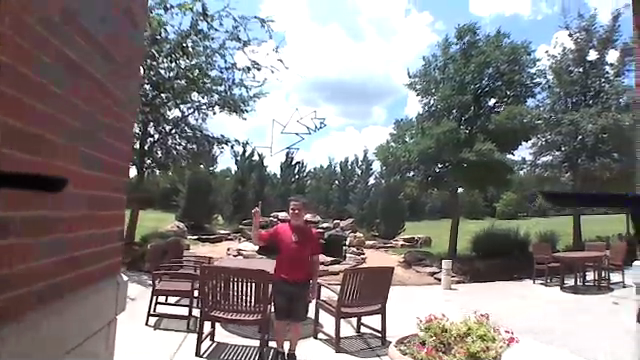up: (249, 198, 266, 220)
